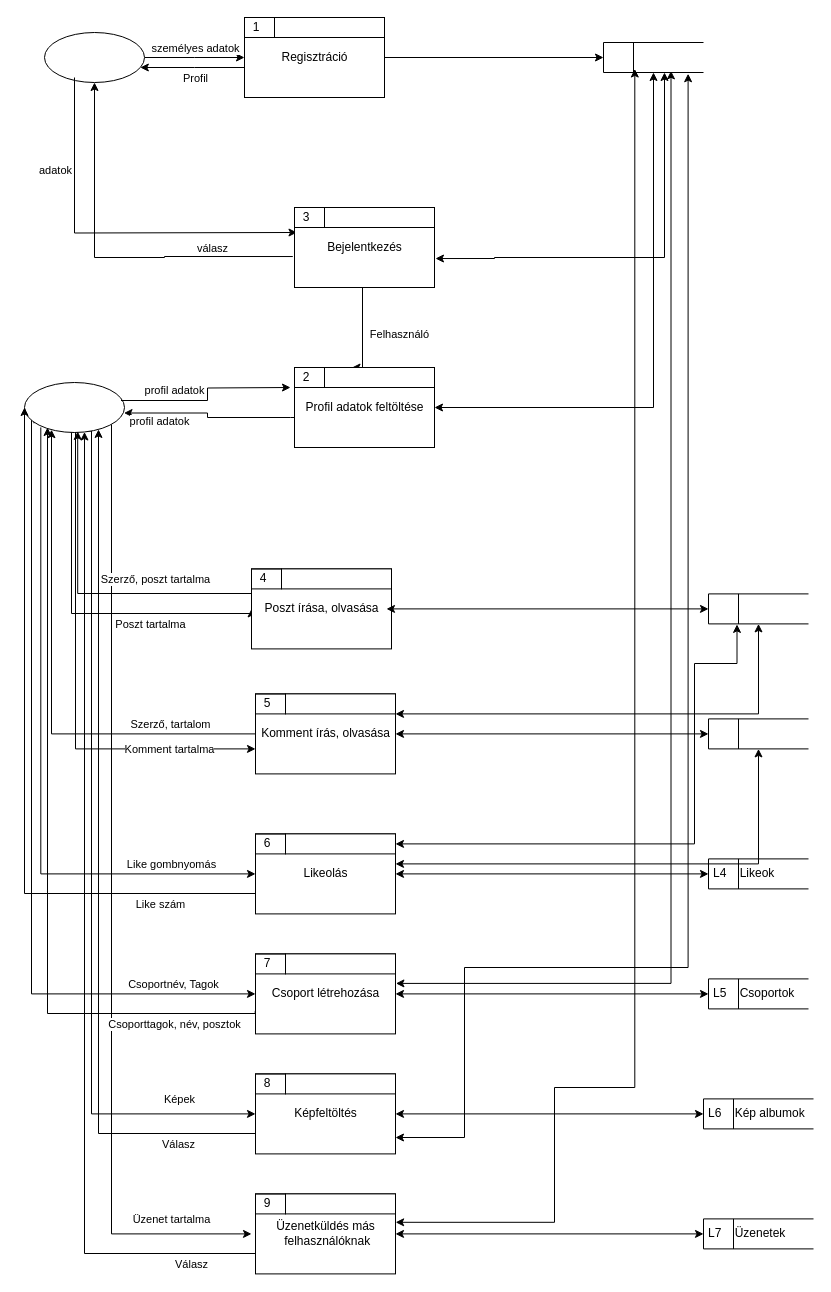
Image size: 831x1292. Some labels were removed from this diagram. The shapes that lost their labels are listed below. From the top down, each one's box as (x1, y1, x2, y2) in pixels, then its label:
(44, 32, 144, 82): Guest
(602, 42, 704, 72): L1 User
(24, 382, 124, 432): User
(708, 593, 808, 624): L2 Posztok
(708, 718, 808, 749): L3 Kommentek
